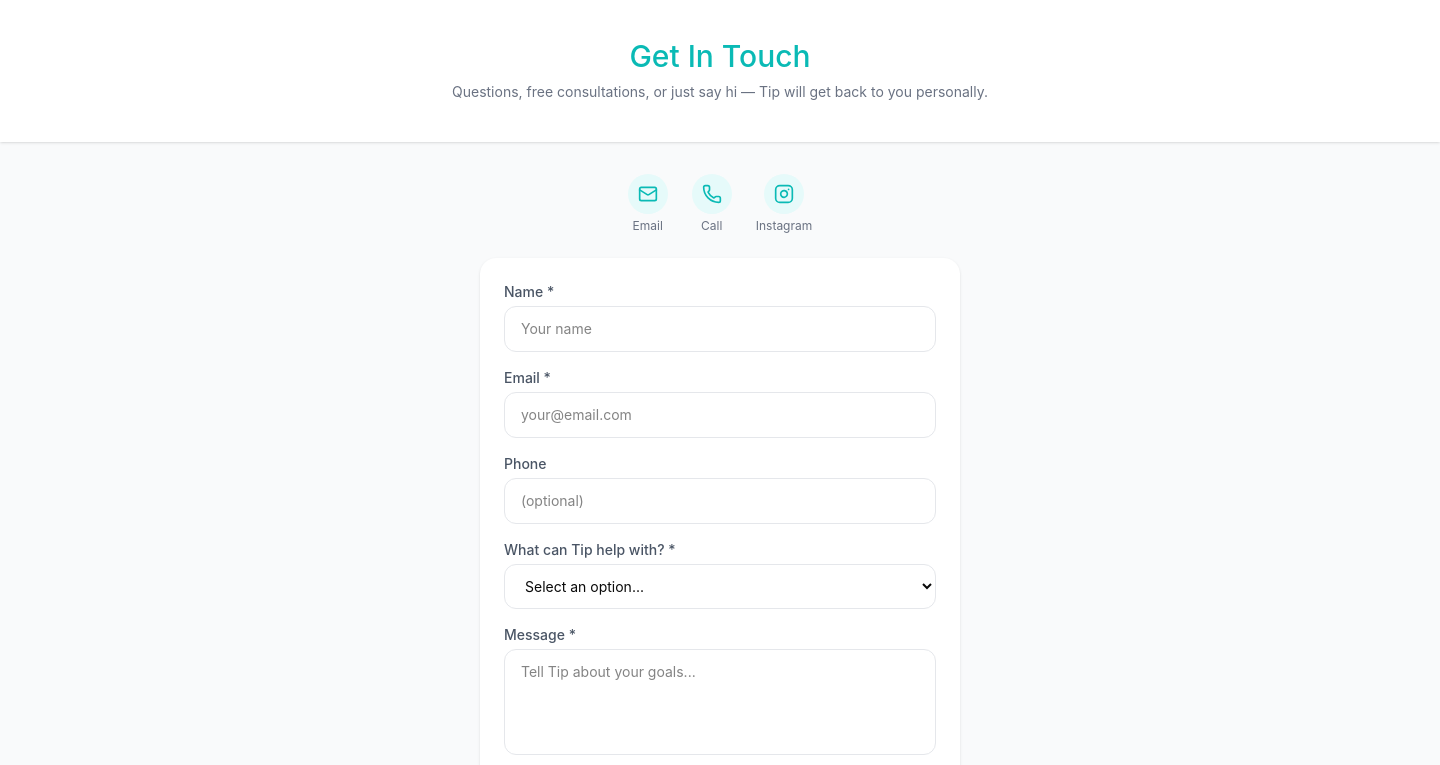
Test: Contact form › shows an error and keeps the form when Supabase returns an error
The width and height of the screenshot is (1440, 765).
Type "Jordan Lee" into the field with placeholder "Your name" at (720, 329), box [504,306,936,352]
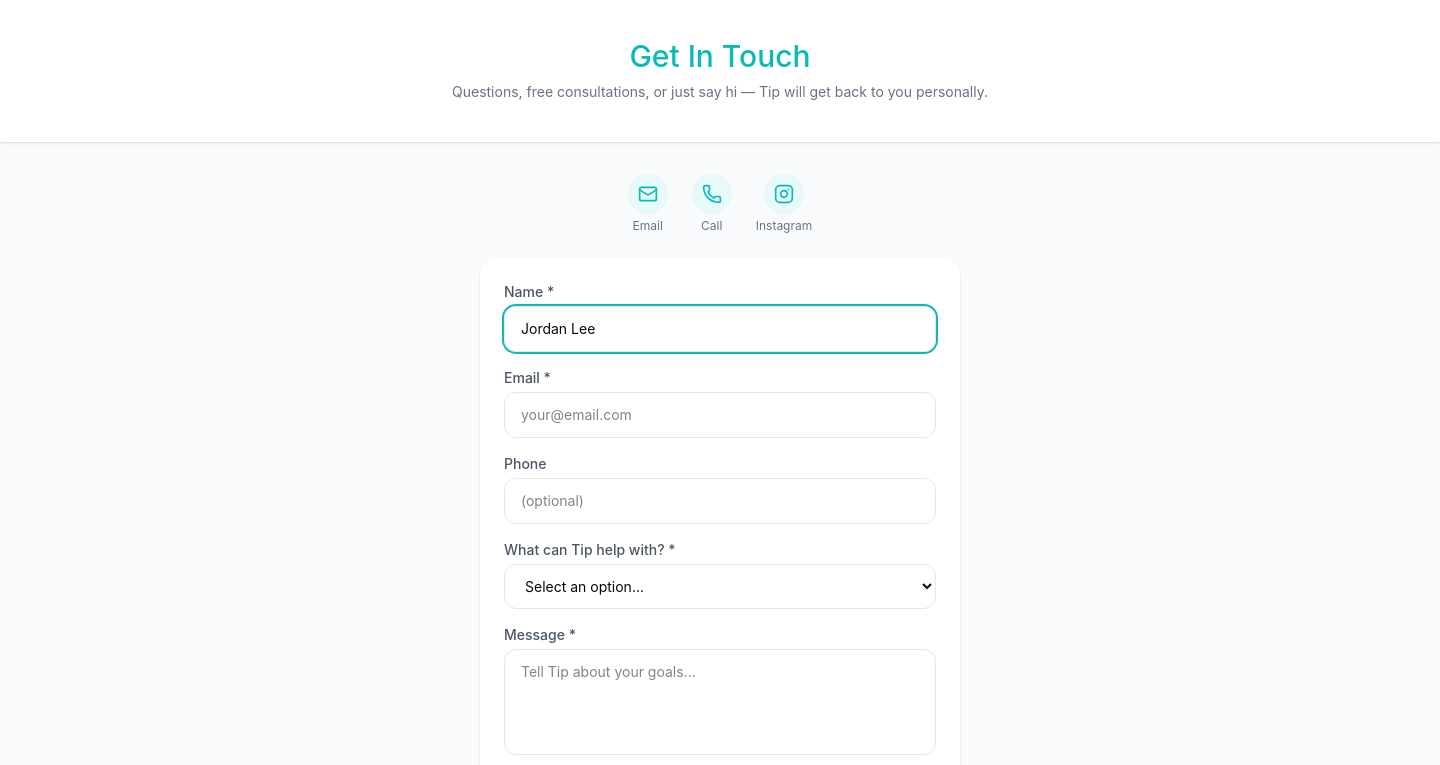
Type "jordan@example.com" into the field with placeholder "your@email.com" at (720, 415), box [504,392,936,438]
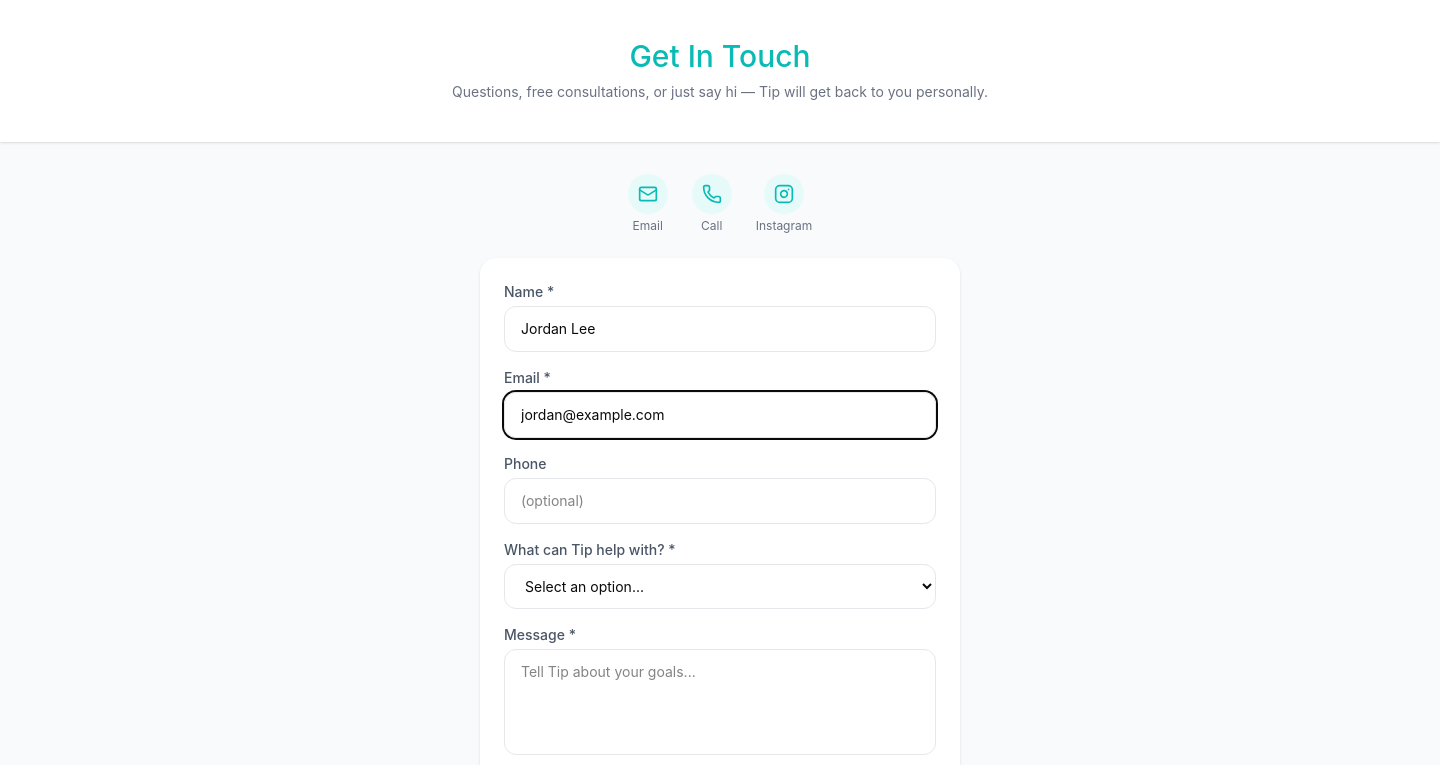
Select "Free Consultation" in the dropdown at (720, 586), box [504,564,936,609]
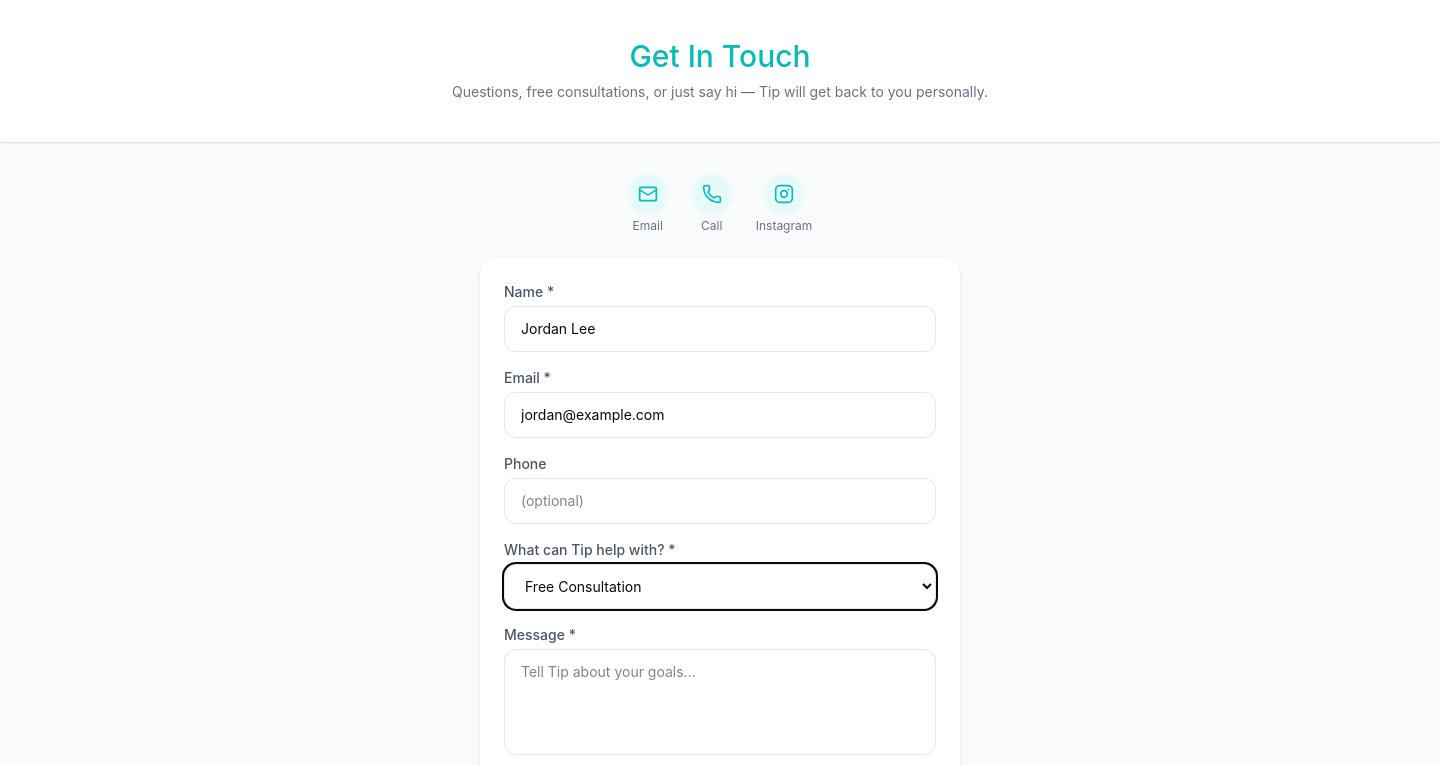
Type "I want to start strength training." into the text box with placeholder "Tell Tip about your goals..." at (720, 702), box [504,649,936,755]
(page scrolled)
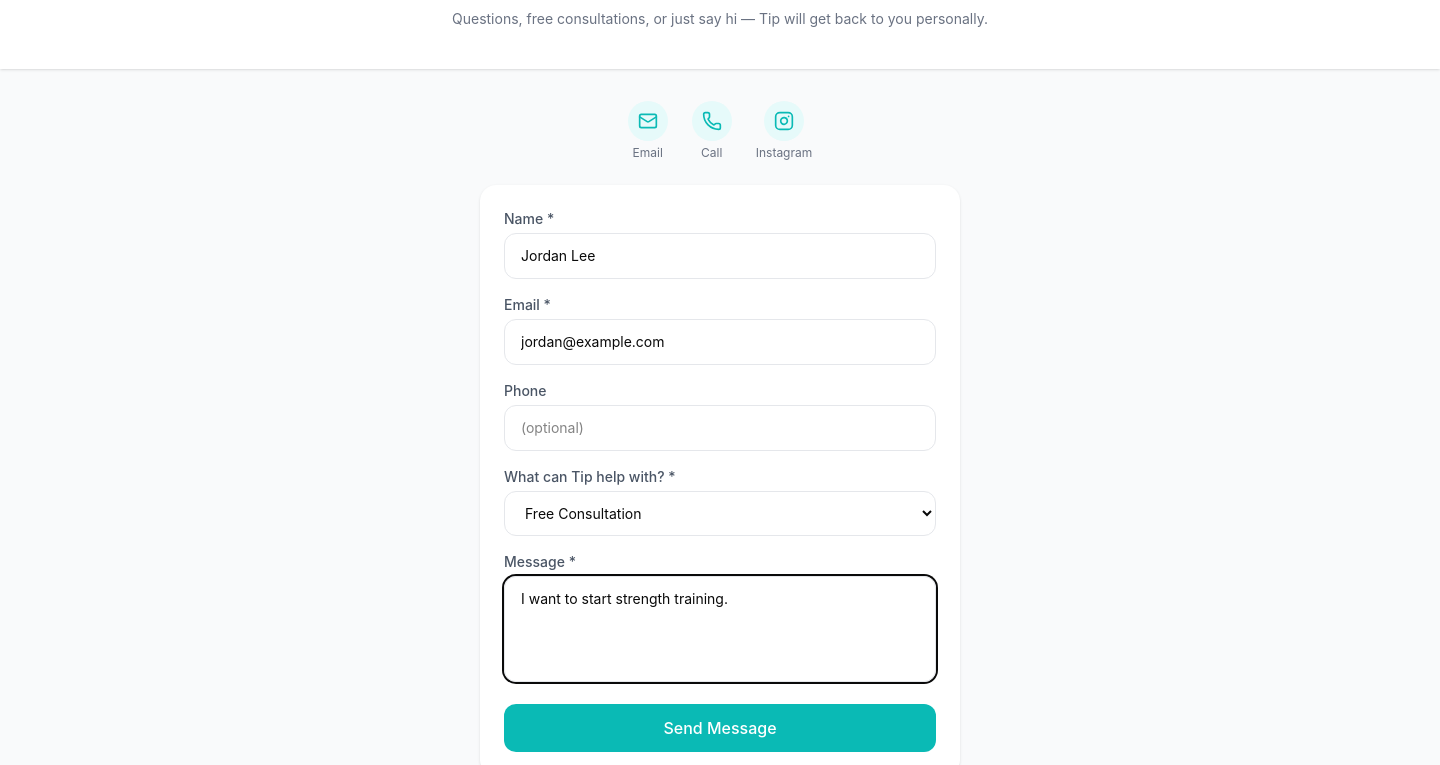
Click the button "Send Message" at (720, 728), box [504,704,936,752]
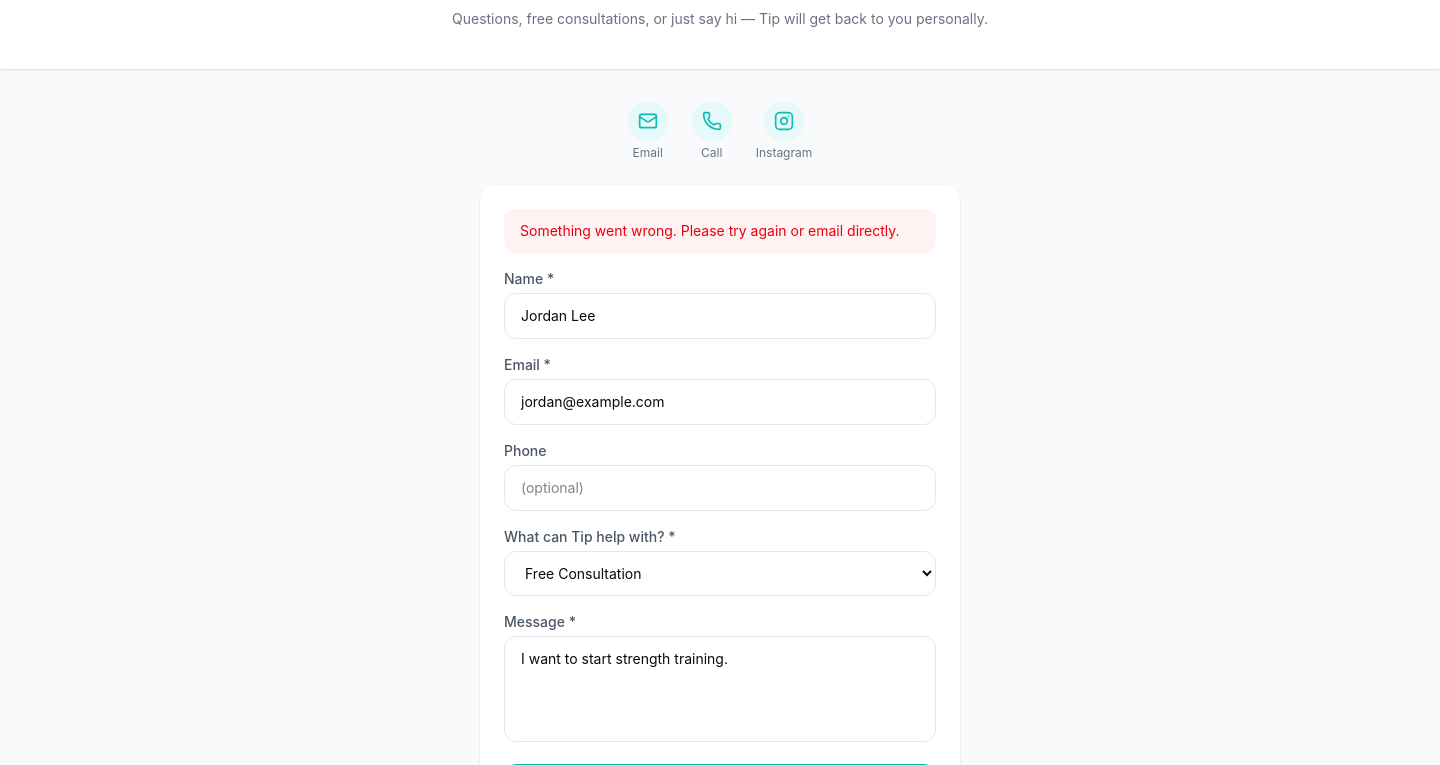
Expected: the text "Something went wrong. Please try again or email directly." is shown, [504,209,936,253]
